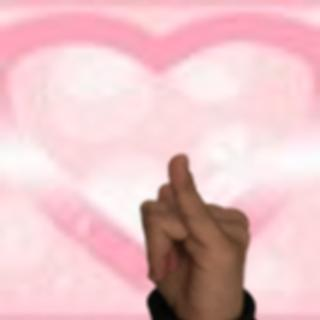HAVE: (111, 144, 266, 320)
